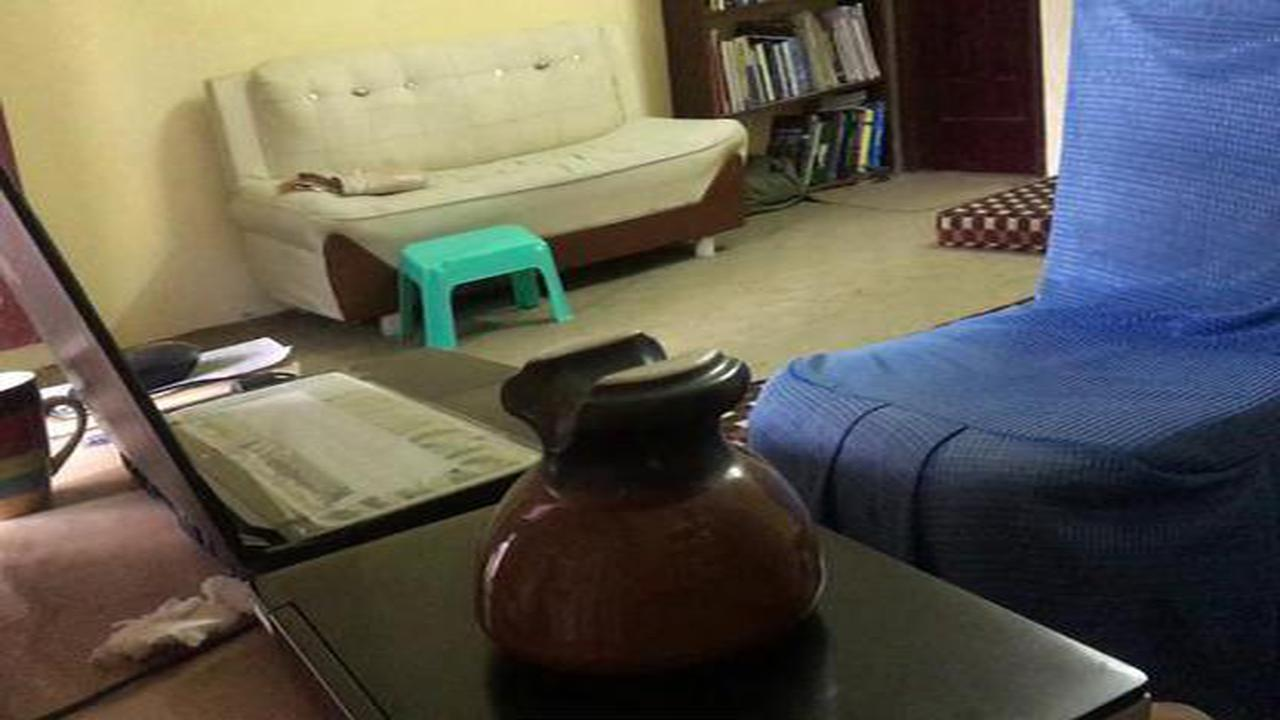insulator_pin: (431, 336, 853, 682)
